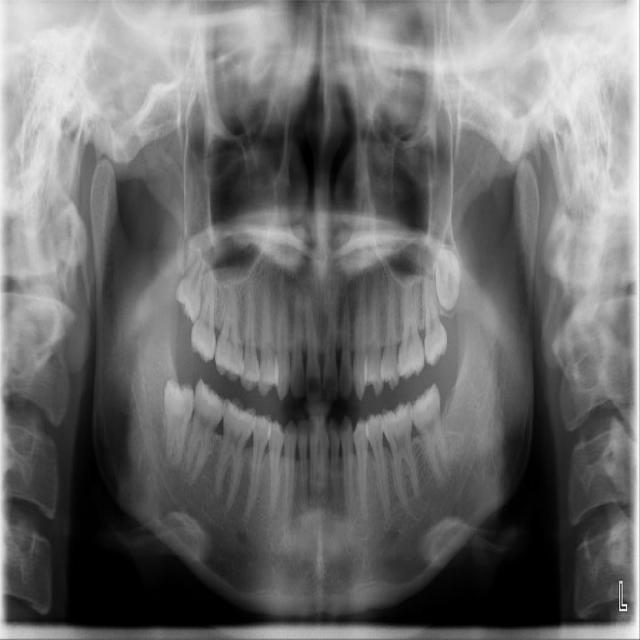impacted tooth: (402, 232, 465, 310), (160, 380, 195, 467), (171, 247, 207, 322)
